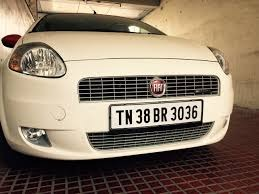numberplate: (109, 96, 209, 133)
